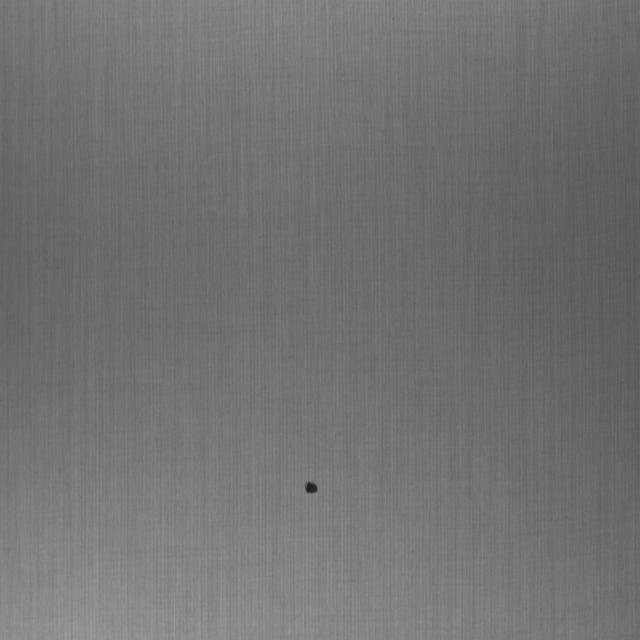dirty: (306, 481, 319, 496)
